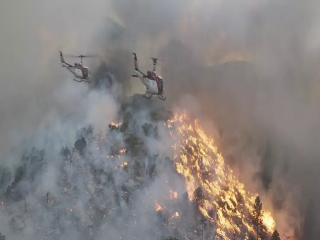fire: (167, 111, 277, 235)
smoke: (37, 87, 165, 231)
